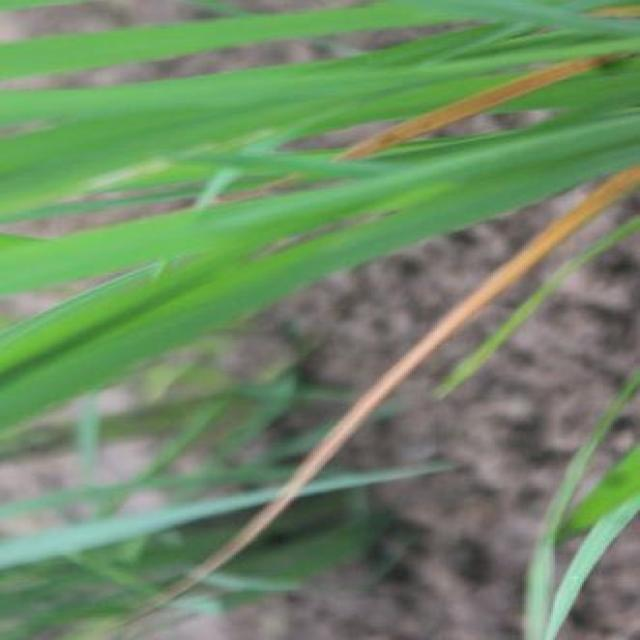Tungro: (211, 163, 625, 560)
